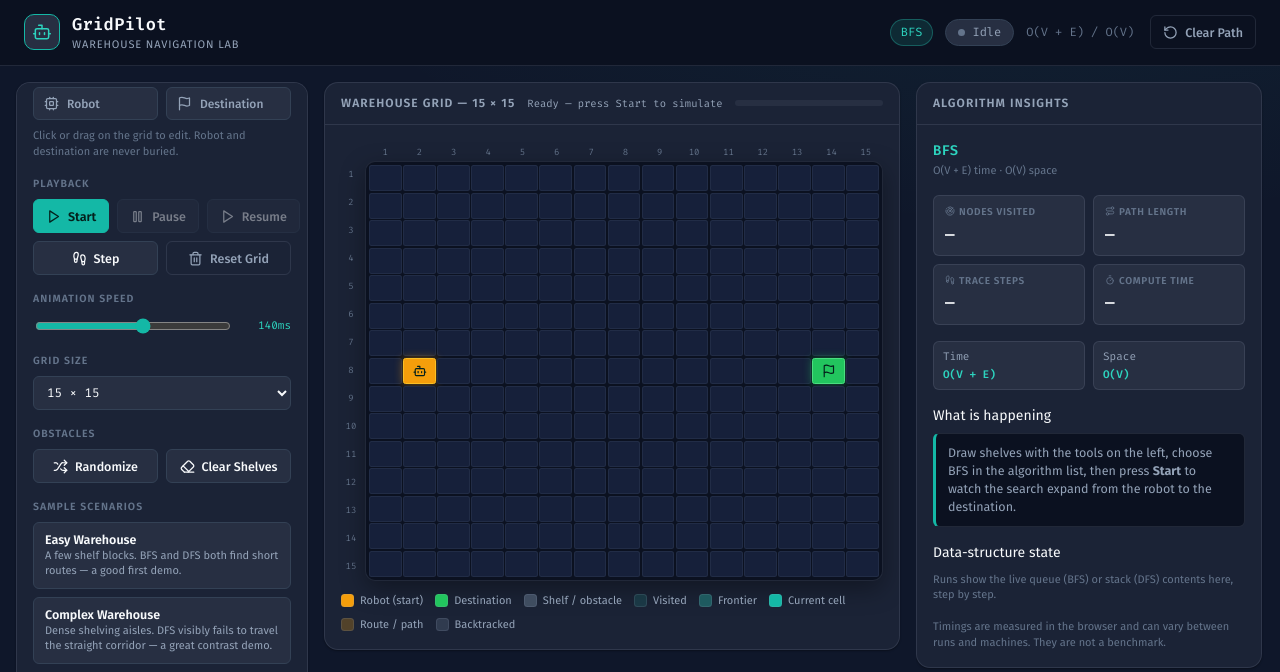
Test case: obstacle generation & lifecycle controls › grid size select changes the dimensions live
(page scrolled)
Select "10 × 10" in the dropdown named "Square grid size" at (162, 393), box [33, 376, 291, 410]
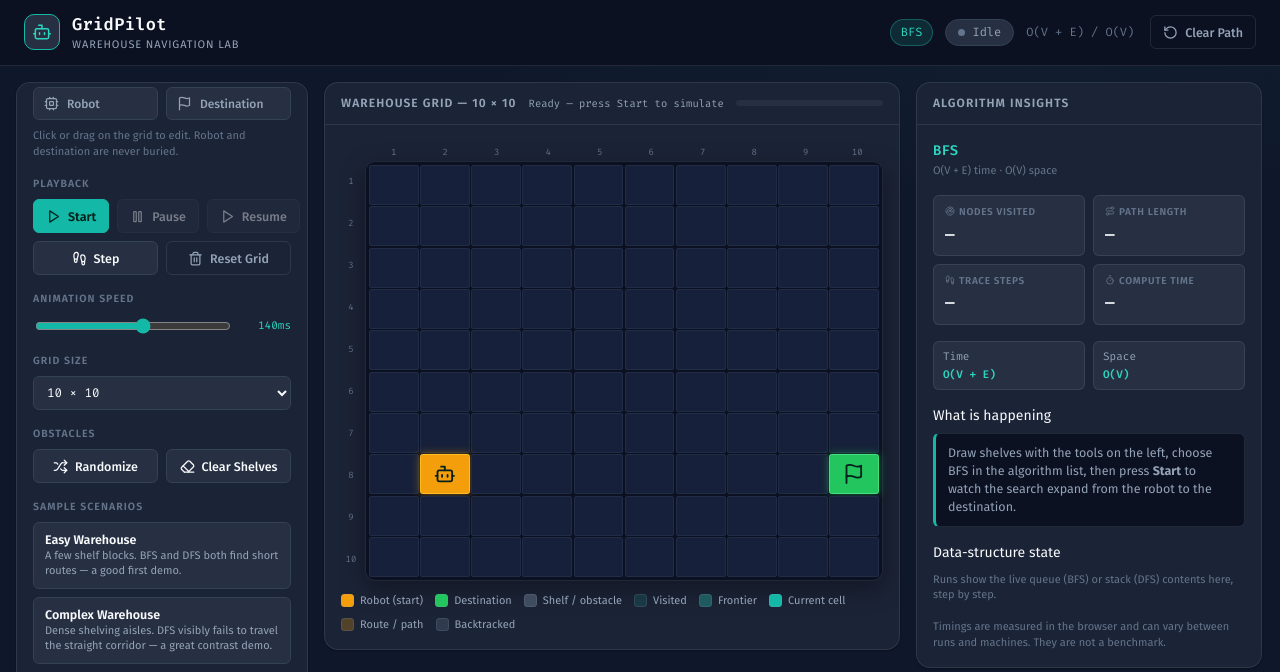
Expected: the text "GridPilot" is shown, [72, 13, 167, 35]
Expected: the heading "Warehouse Grid — 10 × 10" is shown, [341, 95, 517, 112]
Expected: the number of cells is 100
